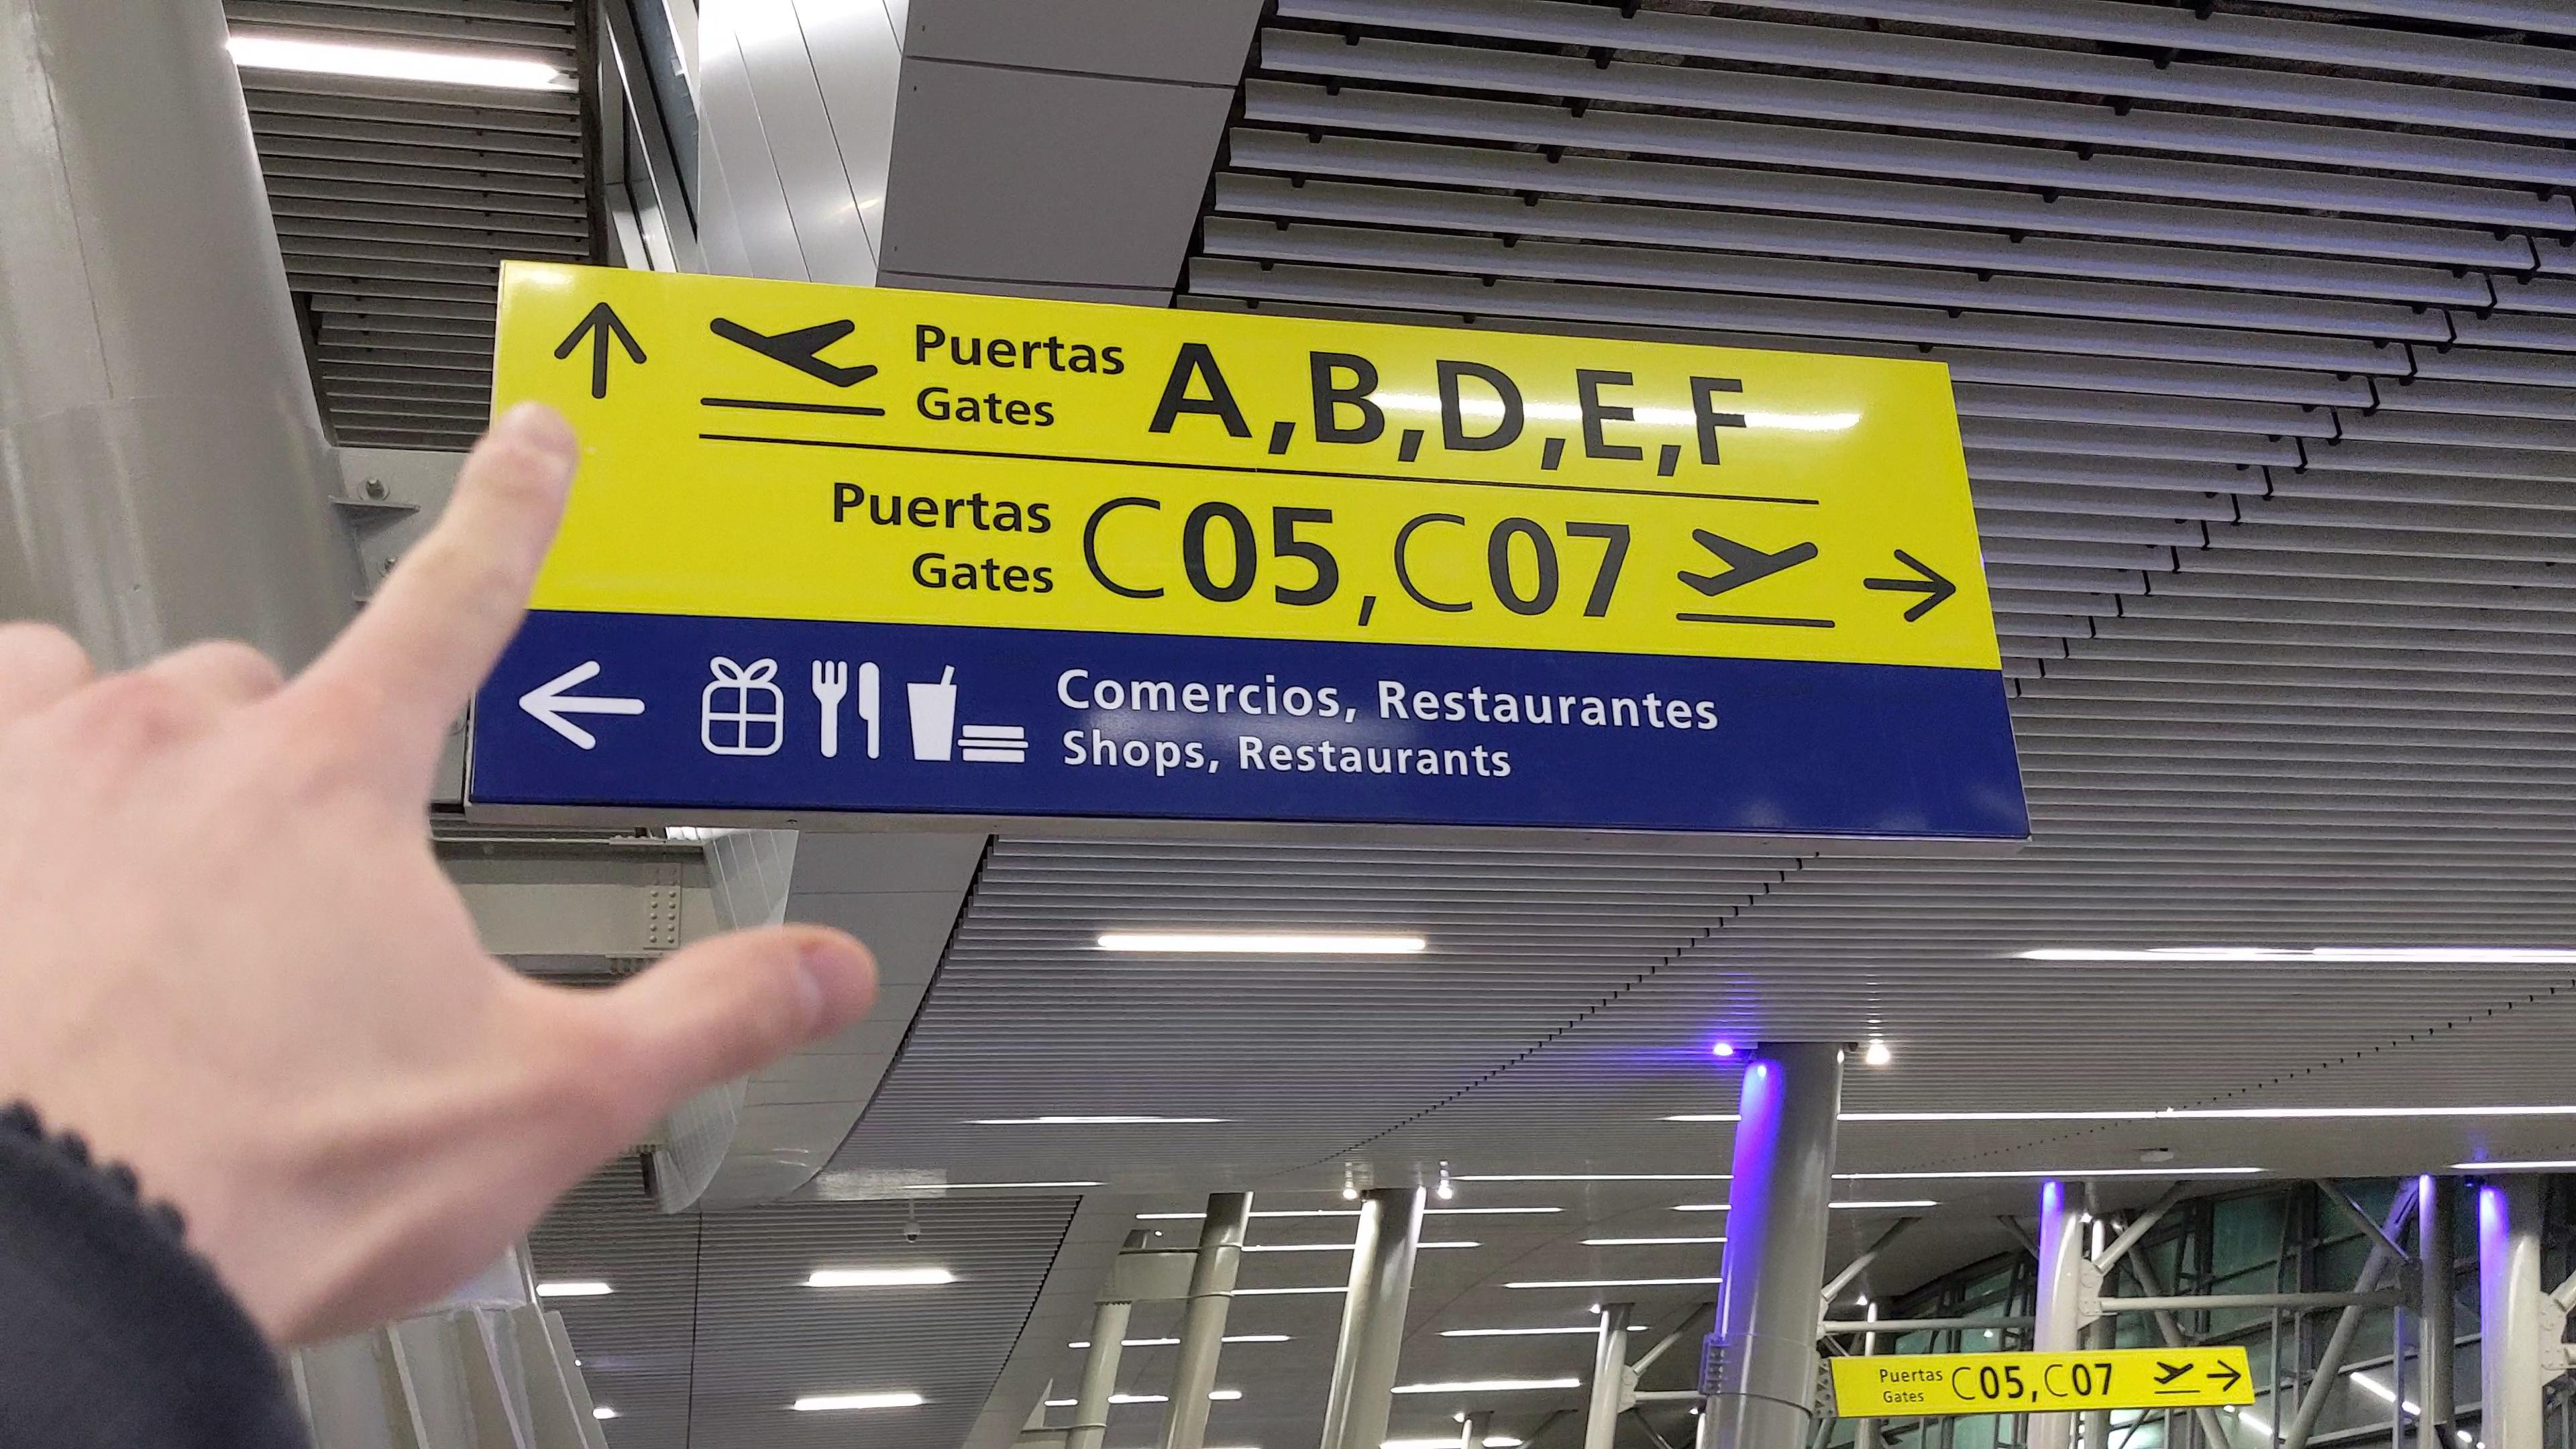airplane symbol: (706, 308, 885, 395), (1677, 524, 1828, 605)
restaurants: (807, 653, 886, 771)
thin left arrow: (517, 658, 648, 752)
thin right arrow: (1859, 543, 1962, 630)
thin up arrow: (548, 299, 651, 405)
